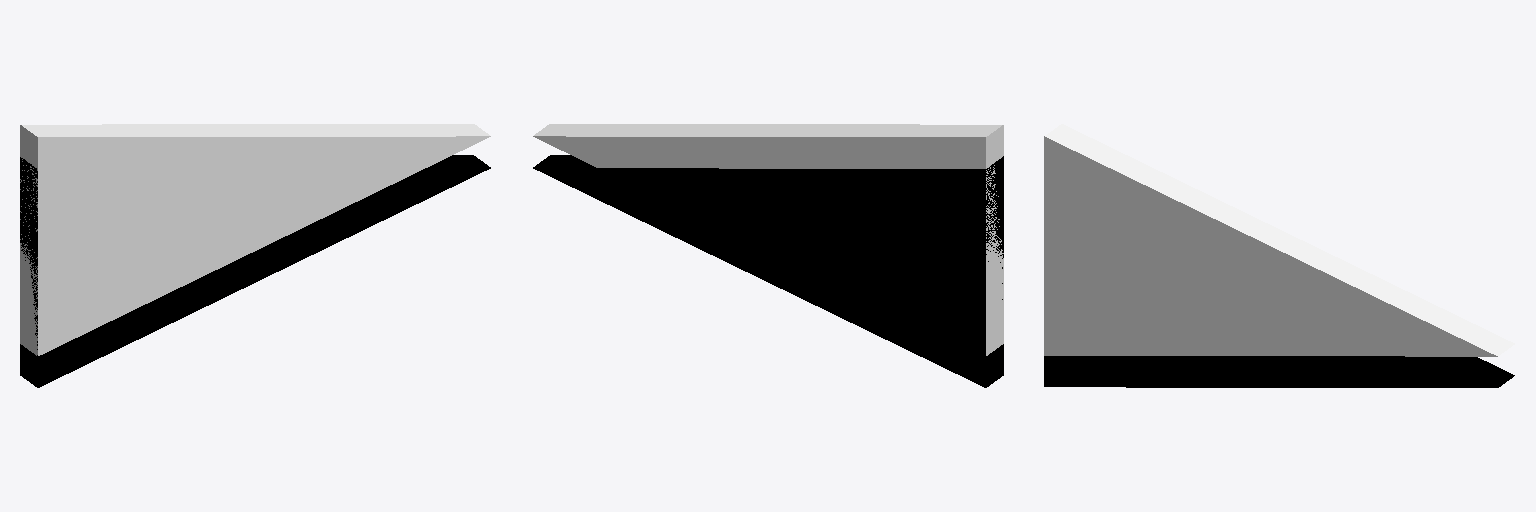
URDF robot description (thepointer):
<?xml version="1.0"?>
<robot name="thepointer">
<link name="base_link">
  <visual>
    <geometry>
      <mesh filename="../mesh/tri_prism.dae" scale="0.4 0.4 0.4" />
    </geometry>
      <material name="aaaa">
        <color rgba="0.0 0.0 0.0 1"/>
      </material>
    <origin rpy="1.57075 0 0" xyz="0 0 0"/>
  </visual>
  <collision>
    <geometry>
      <mesh filename="../mesh/tri_prism.dae" scale="0.4 0.4 0.4" />
    </geometry>
      <origin rpy="1.57075 0 0" xyz="0 0 0"/>
</collision>
  <inertial>
    <mass value="0.5"/>
    <inertia ixx="0.00667" ixy="0.0" ixz="0.0" iyy="0.040266" iyz="0.0" izz="0.046399"/>
</inertial>
</link>

<link name="pointer">
  <visual>
    <geometry>
      <mesh filename="../mesh/tri_prism.dae" scale="0.4 0.4 0.4" />
    </geometry>
      <material name="bbbb">
        <color rgba="1.0 1.0 1.0 1"/>
      </material>
    <origin rpy="1.57075 0 0" xyz="0 0 0.08"/>
  </visual>
  <collision>
    <geometry>
      <mesh filename="../mesh/tri_prism.dae" scale="0.4 0.4 0.4" />
    </geometry>
      <origin rpy="1.57075 0 0" xyz="0 0 0.08"/>
</collision>
  <inertial>
    <mass value="0.5"/>
    <inertia ixx="0.00667" ixy="0.0" ixz="0.0" iyy="0.040266" iyz="0.0" izz="0.046399"/>
</inertial>
</link>

<joint name="base_to_pointer" type="fixed">
  <parent link="base_link"/>
  <child link="pointer"/>
  <origin xyz="0 0 0"/>
</joint>

</robot>

--- What the picture shows (computed from the rendered views, not written in the file) ---
Views: 3 orthographic renders of the robot side by side, from view 1: azimuth 30°, elevation 25°; view 2: azimuth 150°, elevation 25°; view 3: azimuth 330°, elevation 25°.
Model thepointer with 2 links and 1 joints (1 fixed), rooted at base_link, posed all joints at 0.
Visible links, largest first — view 1: pointer, base_link; view 2: base_link, pointer; view 3: pointer, base_link.
Link boxes in pixels (left/top/right/bottom): pointer: left=20, top=124, right=490, bottom=355; base_link: left=20, top=155, right=490, bottom=387; base_link: left=533, top=155, right=1003, bottom=387; pointer: left=533, top=124, right=1003, bottom=355; pointer: left=1044, top=124, right=1514, bottom=356; base_link: left=1044, top=356, right=1514, bottom=387.
Size in the robot's own frame: 1.2 by 0.08 by 0.6343 metres.
Meshes: 1 distinct files referenced, 2 mesh visuals loaded (1 Collada DAE).